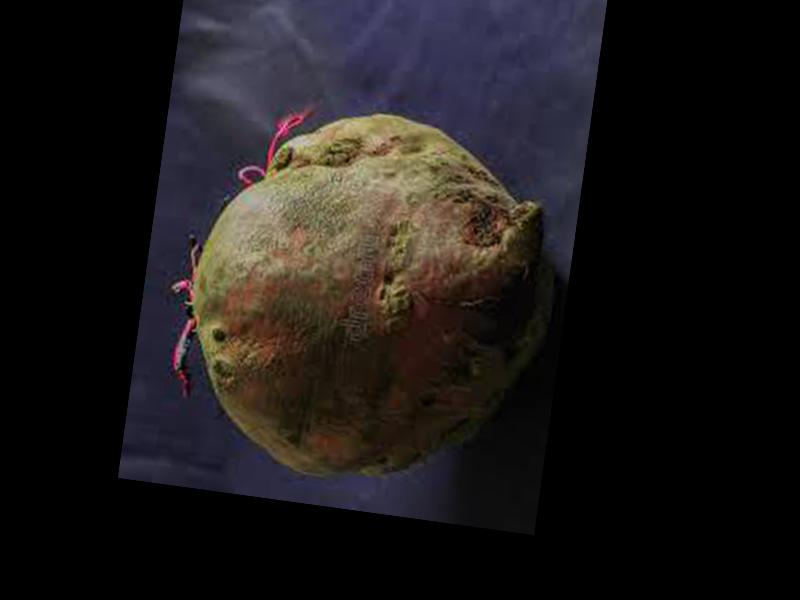Beet: (153, 89, 571, 501)
